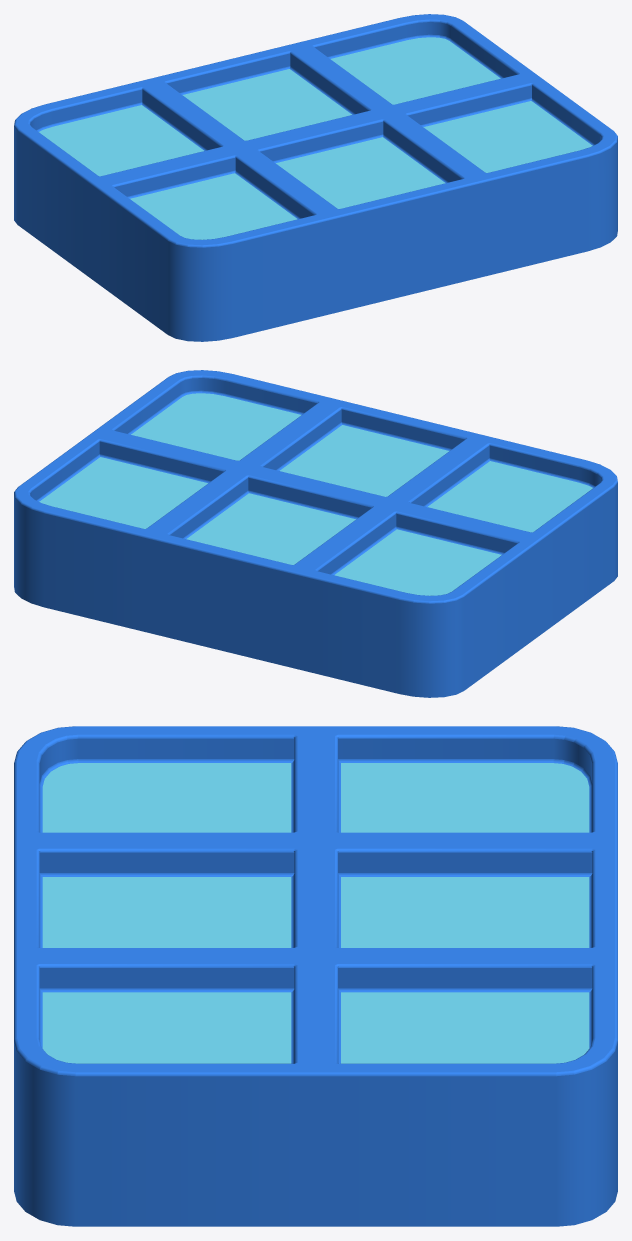
Rendered from Platform.fbx.
The picture shows the model from 3 angles, top to bottom: view 1: azimuth 30°, elevation 25°; view 2: azimuth 150°, elevation 25°; view 3: azimuth 270°, elevation 25°; orthographic projection. The views are drawn at different scales.
Parts seen in each view (by area): view 1: Platform; view 2: Platform; view 3: Platform.
Part boxes in pixels (x1,y1,x2,y2): Platform: (14, 14, 617, 341); Platform: (14, 370, 617, 697); Platform: (14, 726, 617, 1226).
Size of the model in its own units: 273 by 56 by 200.
